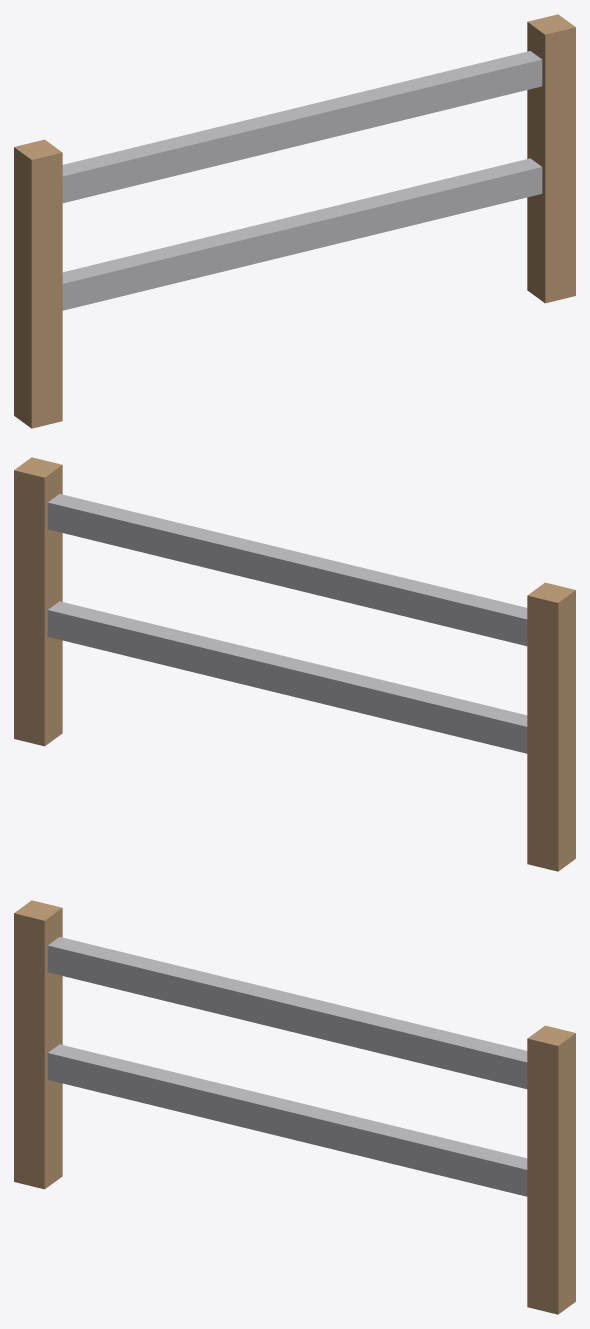
Rendered from Prop_DS_Fence_Gate_18.glb.
The picture shows the model from 3 angles, top to bottom: view 1: azimuth 30°, elevation 25°; view 2: azimuth 150°, elevation 25°; view 3: azimuth 330°, elevation 25°; orthographic projection.
Parts seen in each view (by area): view 1: Cube.002, Cube.003, Cube, Cube.001; view 2: Cube.002, Cube.003, Cube, Cube.001; view 3: Cube.002, Cube.003, Cube.001, Cube.
Part boxes in pixels (x1=…): Cube.002: x1=62, y1=158, x2=542, y2=310; Cube.003: x1=62, y1=51, x2=542, y2=203; Cube: x1=14, y1=139, x2=62, y2=428; Cube.001: x1=527, y1=14, x2=575, y2=303; Cube.002: x1=47, y1=601, x2=527, y2=753; Cube.003: x1=47, y1=494, x2=527, y2=646; Cube: x1=527, y1=582, x2=575, y2=871; Cube.001: x1=14, y1=457, x2=62, y2=746; Cube.002: x1=47, y1=1044, x2=527, y2=1196; Cube.003: x1=47, y1=937, x2=527, y2=1089; Cube.001: x1=527, y1=1025, x2=575, y2=1314; Cube: x1=14, y1=900, x2=62, y2=1189.
Size of the model in its own units: 2.12 by 1 by 0.12.
